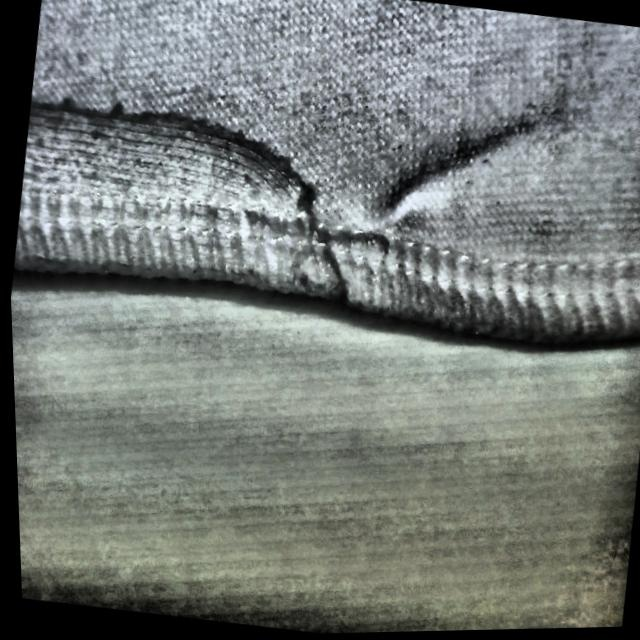seam: (2, 27, 345, 313)
